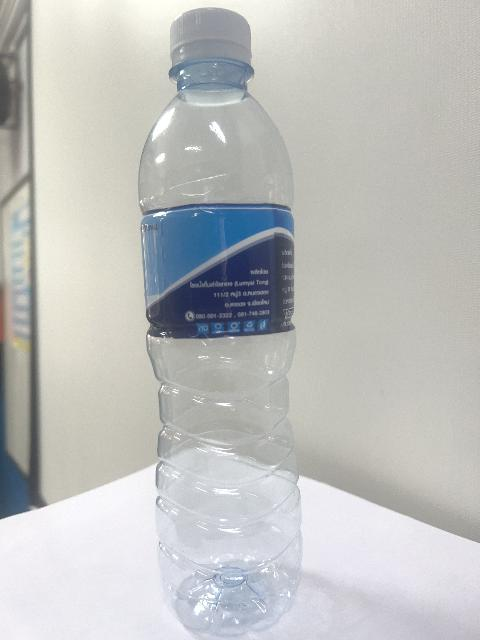bottle: (140, 8, 301, 636)
